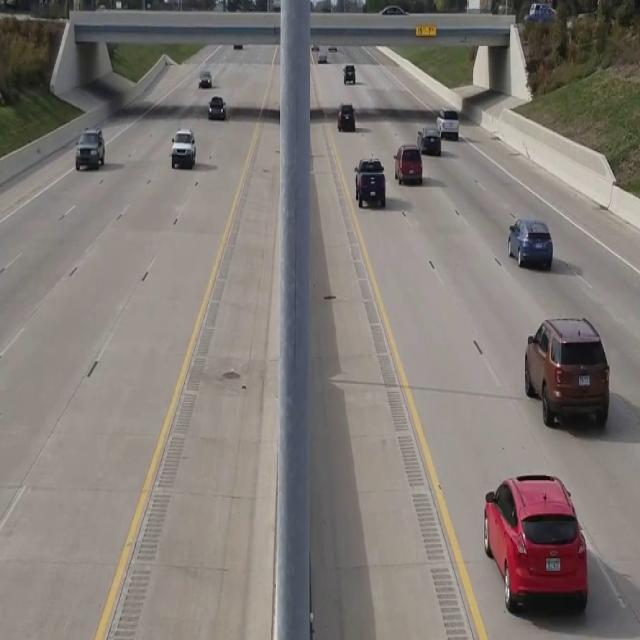car: (483, 472, 588, 614), (524, 315, 610, 427), (508, 216, 553, 269), (354, 158, 385, 208), (75, 127, 104, 170), (393, 145, 423, 184), (170, 129, 195, 168), (338, 102, 355, 132), (209, 96, 225, 119), (198, 70, 212, 87), (343, 64, 355, 83)
